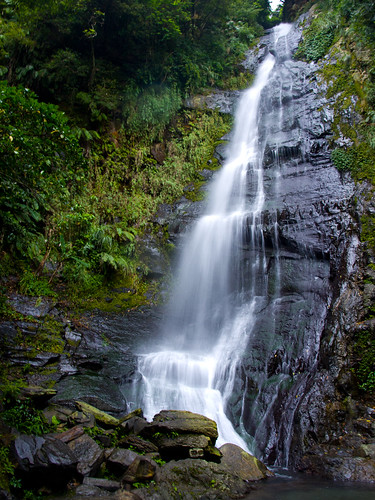wufengciWaterfall: (131, 21, 325, 479)
